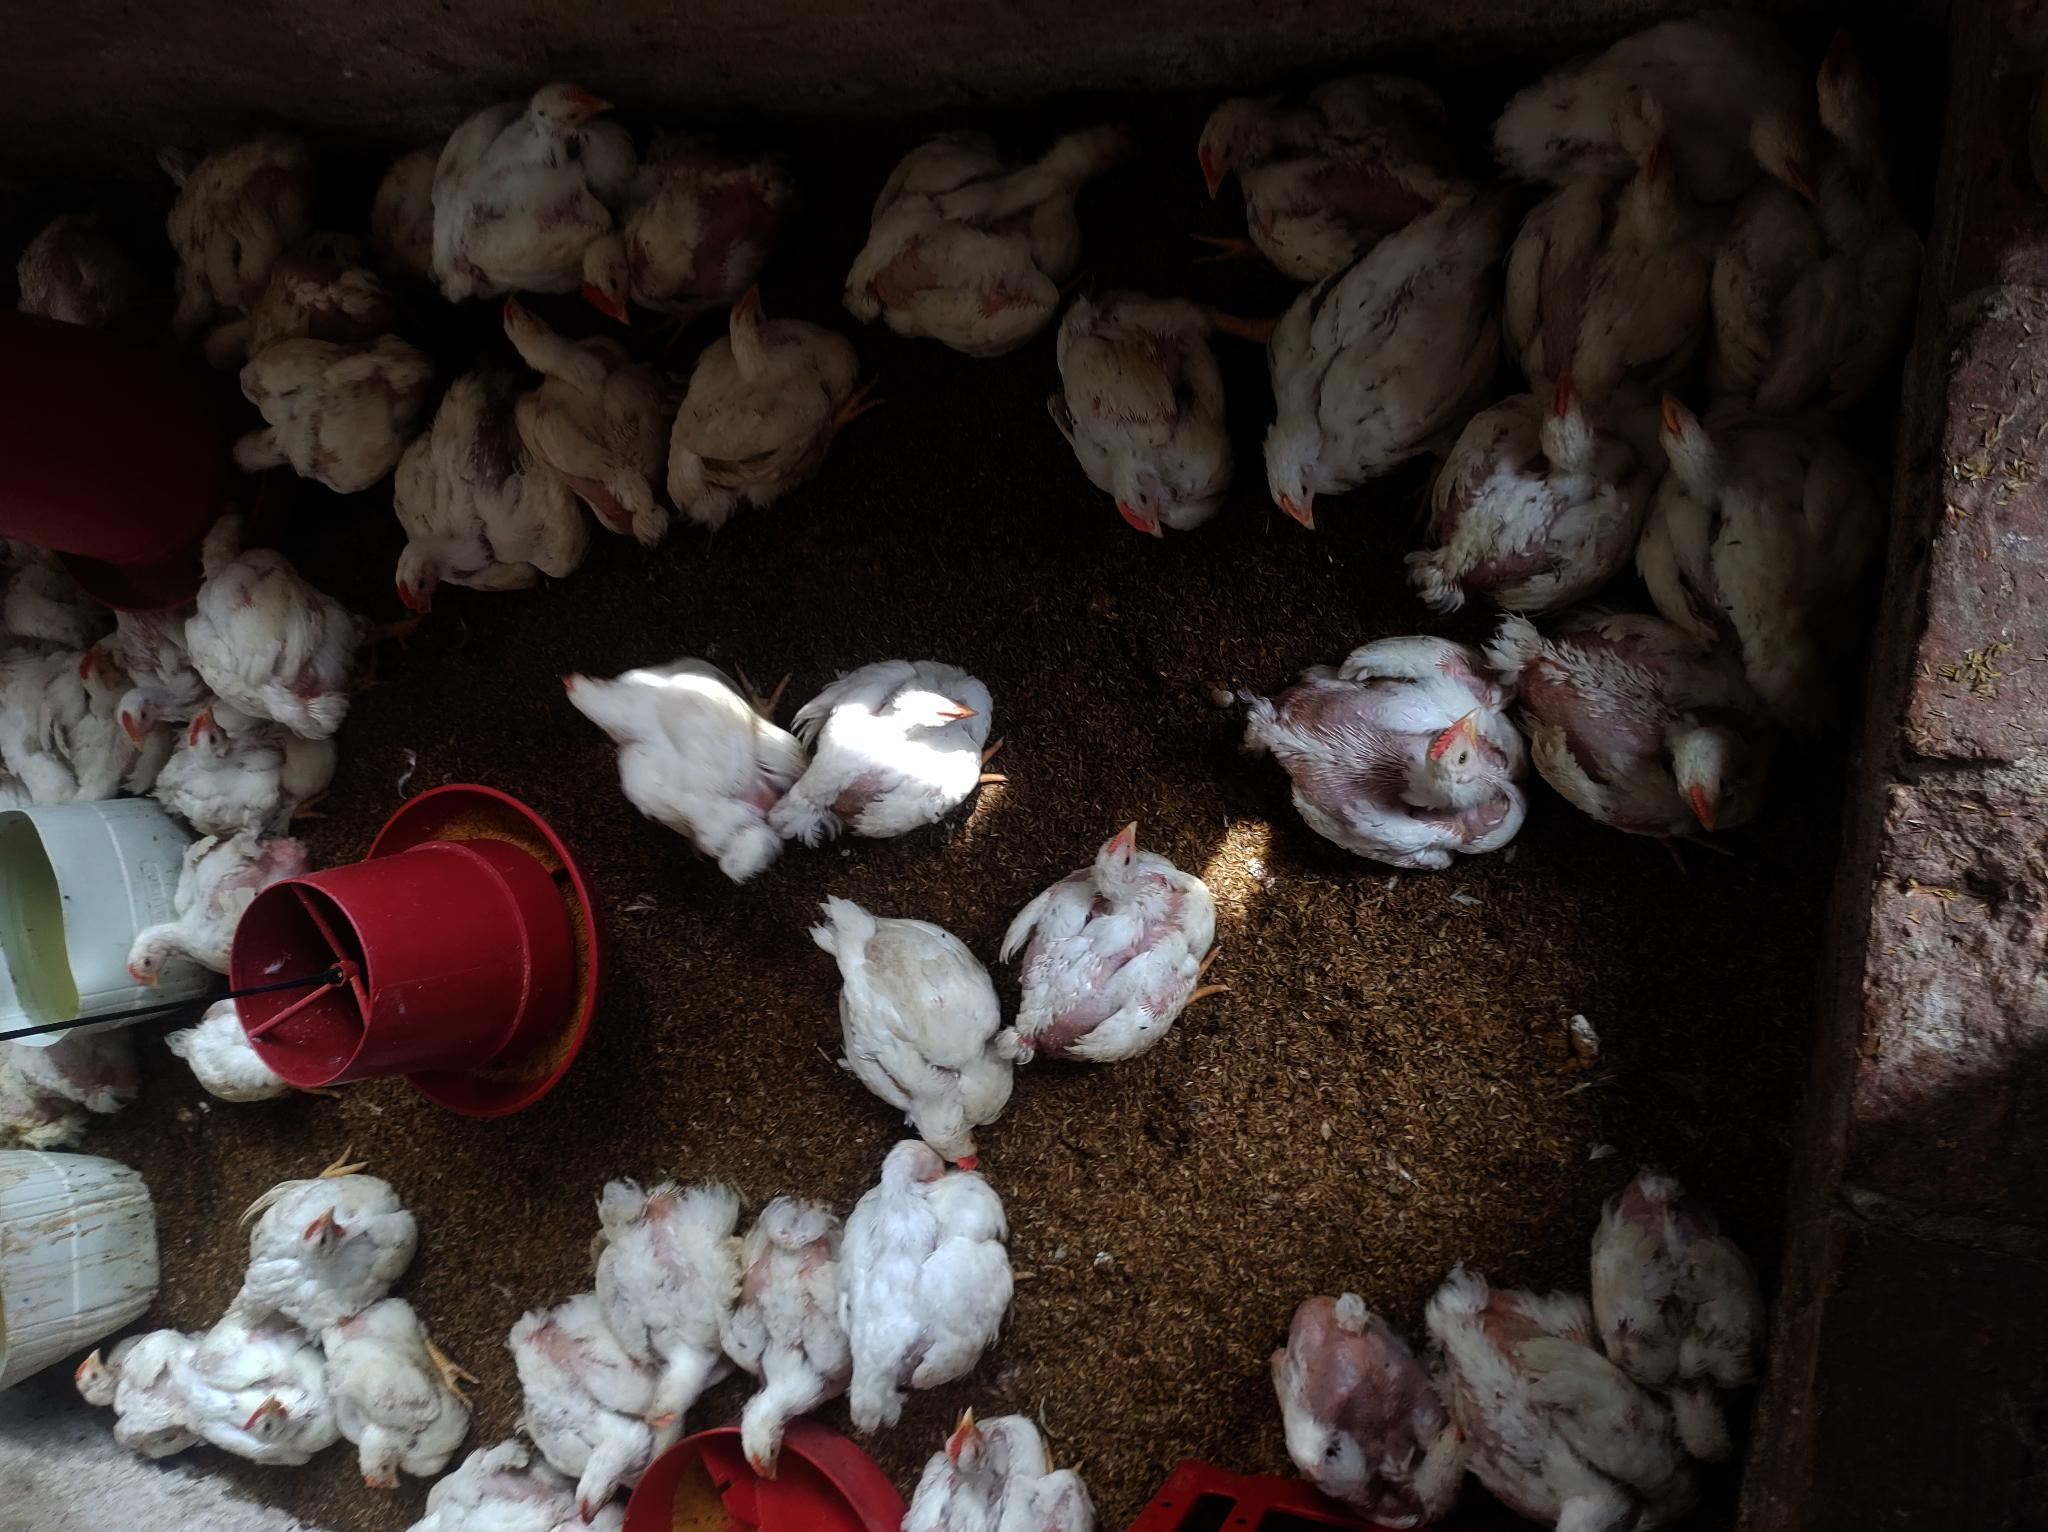Pollos: (1659, 364, 1898, 742), (1248, 198, 1504, 541), (1223, 628, 1525, 880), (1488, 129, 1779, 389), (1454, 1263, 1717, 1532), (1525, 586, 1773, 863), (1593, 1168, 1815, 1476), (1179, 56, 1491, 269), (874, 114, 1134, 356), (1733, 55, 1939, 359), (547, 645, 809, 880), (997, 809, 1216, 1075), (1519, 6, 1816, 198), (816, 895, 1017, 1168), (1242, 1287, 1478, 1513), (843, 1143, 1017, 1440), (1441, 364, 1649, 612), (376, 373, 587, 612), (417, 77, 615, 327), (483, 290, 671, 541), (587, 111, 800, 327), (1059, 291, 1239, 544), (785, 652, 1007, 850), (676, 309, 869, 531), (183, 507, 362, 735), (587, 1180, 742, 1431), (219, 306, 423, 491), (732, 1204, 869, 1476), (520, 1307, 685, 1513), (127, 822, 330, 982), (198, 203, 386, 359), (238, 1159, 413, 1315), (886, 1402, 1096, 1532), (344, 1287, 470, 1505), (140, 129, 322, 275), (198, 1324, 343, 1472), (0, 1006, 134, 1162), (71, 1329, 195, 1477), (13, 208, 140, 343), (0, 655, 97, 822), (154, 995, 285, 1109), (413, 1452, 597, 1532), (161, 719, 294, 822), (109, 599, 183, 748), (6, 531, 90, 628), (72, 632, 117, 689)
